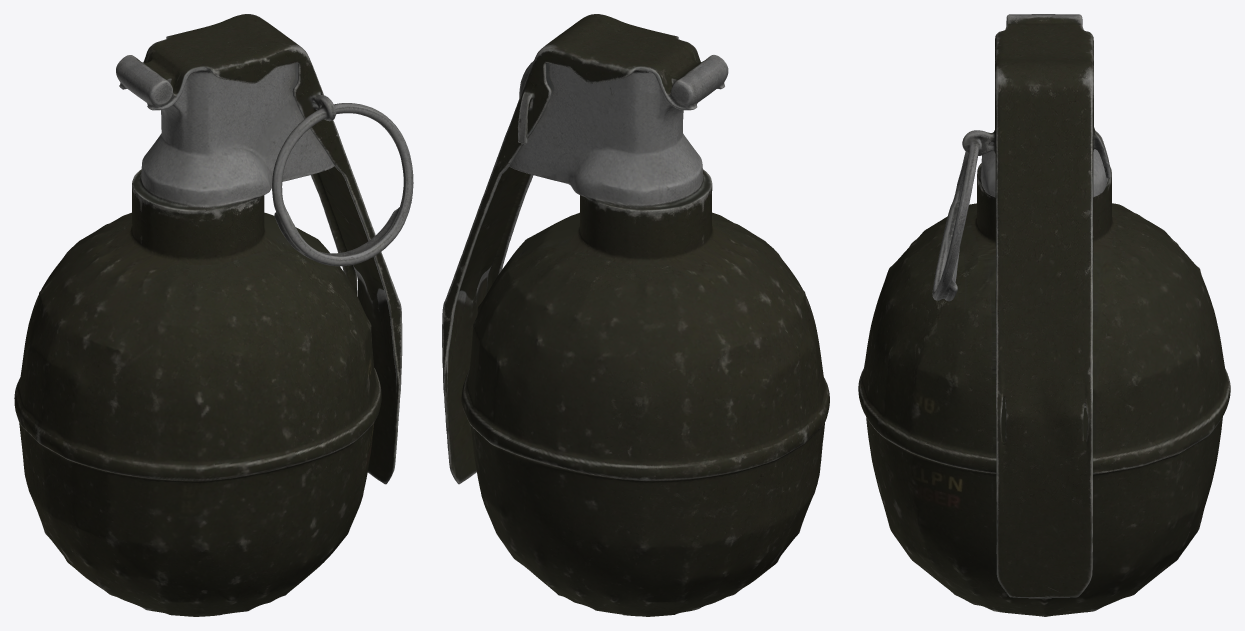
The model's file is Meshy_AI_Pin_of_Ruin_1030013948_texture.glb.
3 views of the same model, side by side, from view 1: azimuth 30°, elevation 25°; view 2: azimuth 150°, elevation 25°; view 3: azimuth 270°, elevation 25° (orthographic). The views are drawn at different scales.
Size of the model in its own units: 0.9891 by 1.54 by 0.9128.
1 material, 1 textured.
